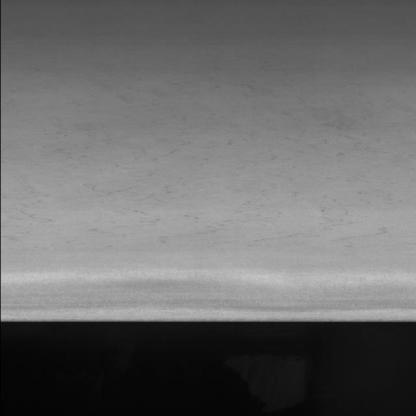silk_spot: (42, 108, 378, 268)
